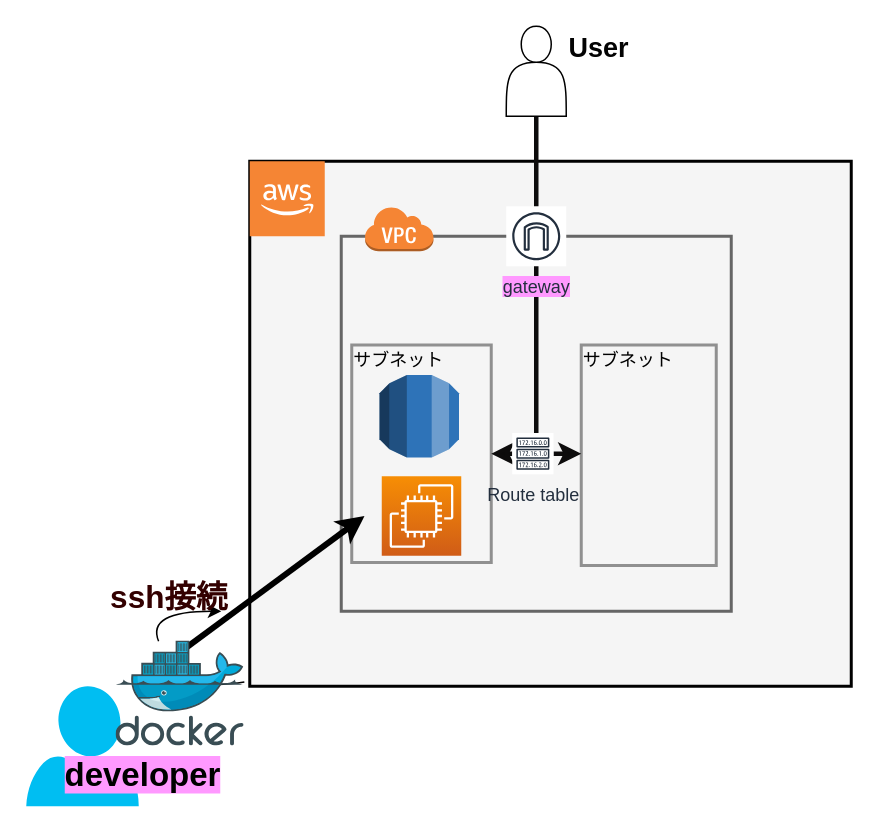
The diagram is 878 pixels wide and 833 high, and some of its shapes have lost their labels. Here are the shapes that lost their labels. From the top down, the box of each, then its label:
(378, 374, 459, 458): RDS
(380, 474, 462, 556): EC2
